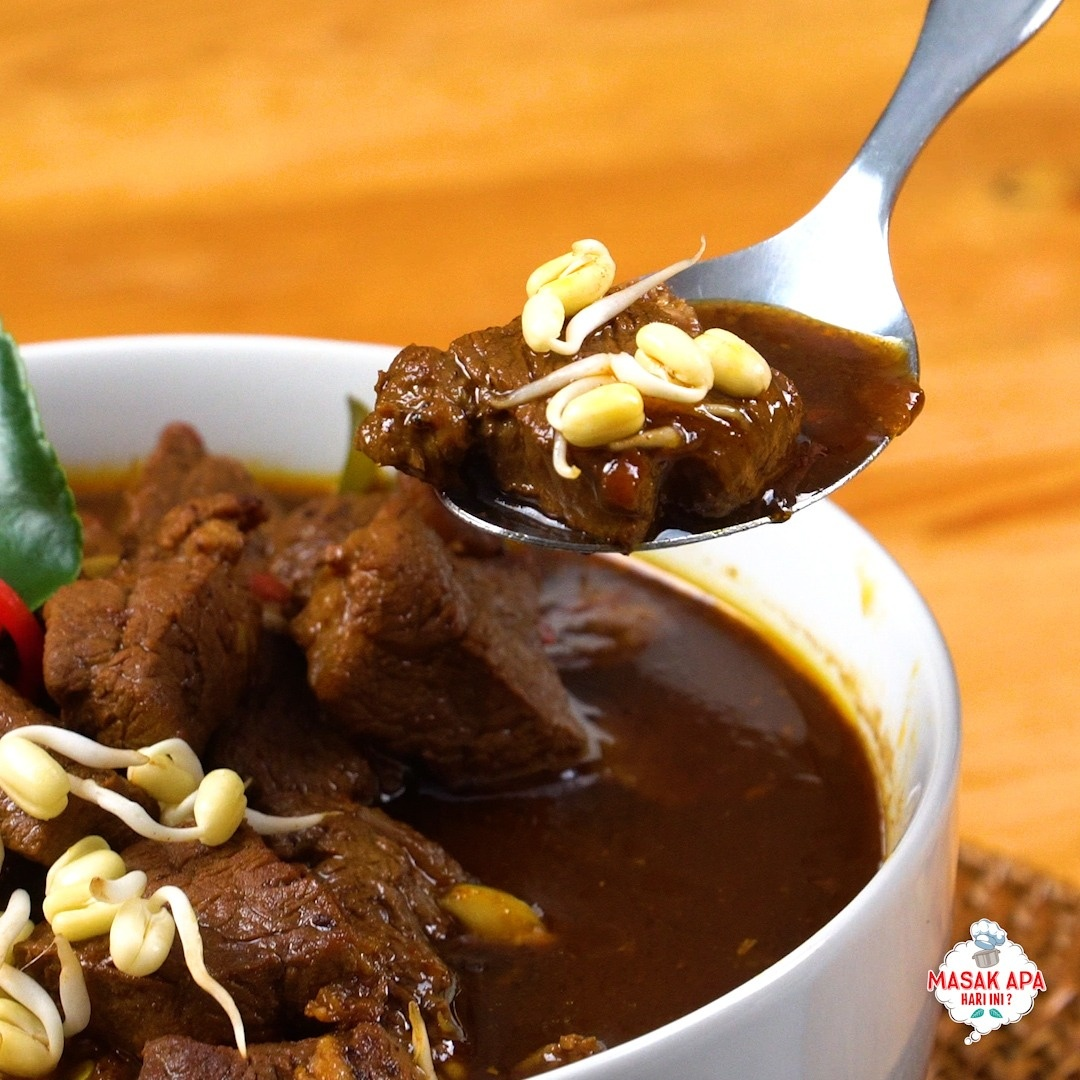rawon: (7, 207, 903, 1025)
